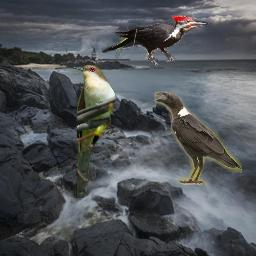Crow: (154, 91, 242, 185)
Cuckoo: (72, 64, 117, 198)
Woodpecker: (102, 15, 208, 67)
